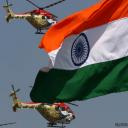helicopter: (11, 85, 82, 128), (4, 2, 68, 36), (1, 117, 17, 128)
